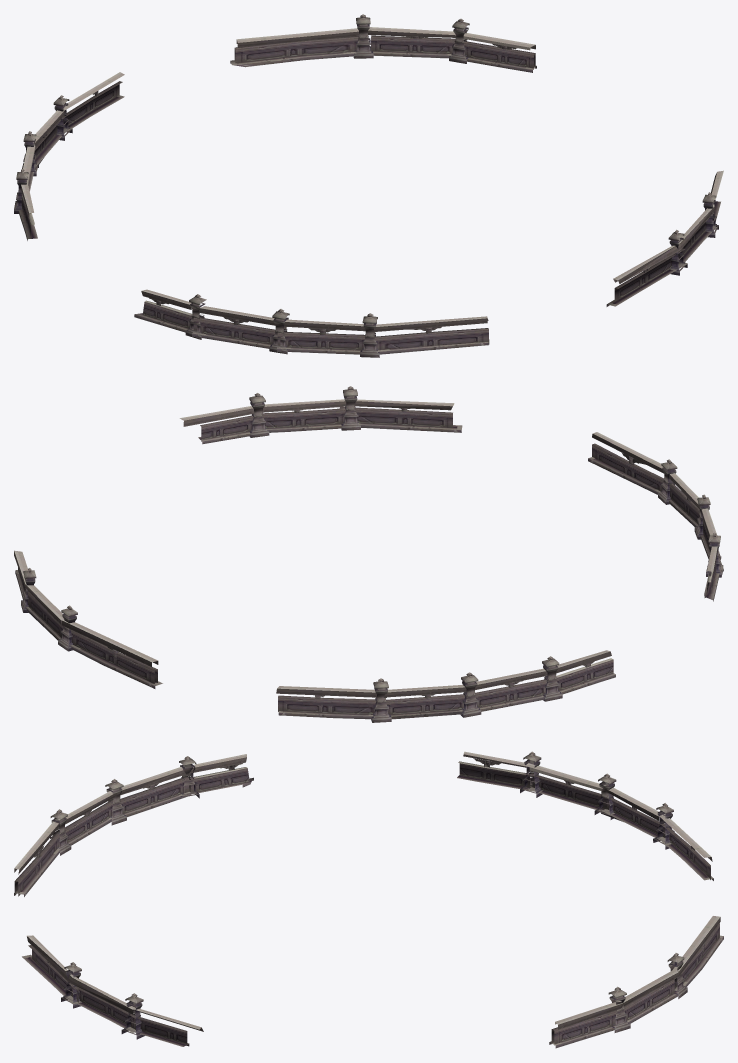
Rendered from s_battle_05_weilan.FBX.
3 views of the same model, one above another, from view 1: azimuth 30°, elevation 25°; view 2: azimuth 150°, elevation 25°; view 3: azimuth 270°, elevation 25° (orthographic).
Visible parts, largest first — view 1: weilan6, weilan012, weilan13, weilan7, weilan10, weilan5, weilan1, weilan2, weilan4, weilan11; view 2: weilan10, weilan4, weilan13, weilan1, weilan2, weilan7, weilan11, weilan012, weilan6, weilan5, weilan3; view 3: weilan6, weilan4, weilan012, weilan10, weilan7, weilan5, weilan2, weilan13, weilan11, weilan1.
Part boxes in pixels (<box>): weilan6: <box>192,306,365,354</box>; weilan012: <box>368,18,536,72</box>; weilan13: <box>230,14,373,67</box>; weilan7: <box>360,313,489,357</box>; weilan10: <box>606,205,716,306</box>; weilan5: <box>134,289,206,339</box>; weilan1: <box>57,72,124,135</box>; weilan2: <box>33,95,72,169</box>; weilan4: <box>14,145,37,240</box>; weilan11: <box>702,170,723,237</box>; weilan10: <box>262,386,462,432</box>; weilan4: <box>475,650,615,711</box>; weilan13: <box>58,605,162,688</box>; weilan1: <box>276,686,389,719</box>; weilan2: <box>371,678,466,722</box>; weilan7: <box>588,432,677,504</box>; weilan11: <box>179,393,269,444</box>; weilan012: <box>14,550,64,640</box>; weilan6: <box>669,473,723,571</box>; weilan5: <box>704,532,723,601</box>; weilan3: <box>460,672,481,717</box>; weilan6: <box>57,767,190,845</box>; weilan4: <box>457,751,606,811</box>; weilan012: <box>549,970,678,1048</box>; weilan10: <box>22,935,135,1032</box>; weilan7: <box>14,809,71,896</box>; weilan5: <box>179,754,253,798</box>; weilan2: <box>601,787,674,849</box>; weilan13: <box>667,916,723,998</box>; weilan11: <box>121,993,203,1046</box>; weilan1: <box>658,814,713,880</box>.
Size of the model in its own units: 37.99 by 2.89 by 40.64.
